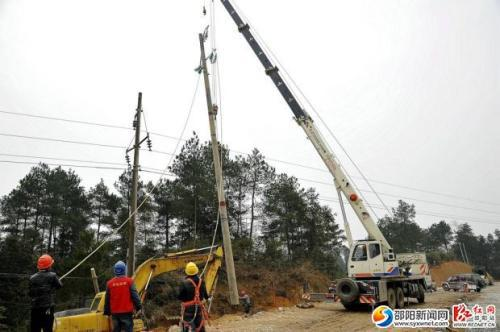helmet: (35, 253, 56, 273), (185, 259, 202, 278), (112, 258, 129, 276)
